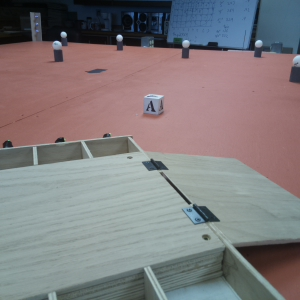obstacle: (287, 52, 300, 83), (177, 39, 195, 61), (51, 45, 67, 64), (115, 34, 125, 52), (60, 30, 70, 47), (256, 40, 263, 59)
side: (1, 129, 142, 168)
slope: (144, 142, 300, 241)
